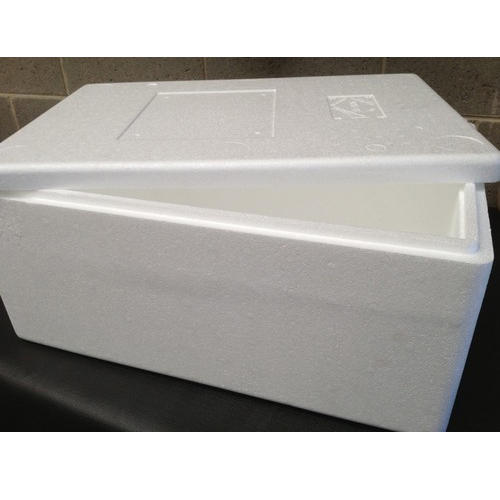Foam Box: (1, 70, 500, 431)
